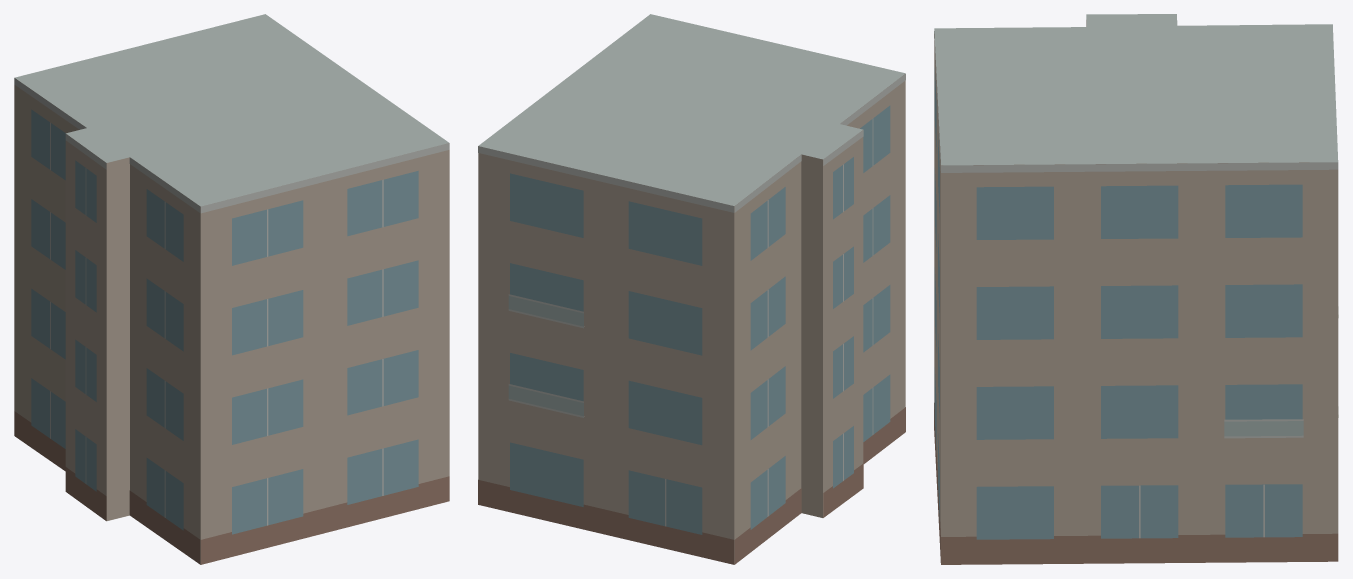
Rendered from survey-upis-32698407.glb.
3 renders of one model, left to right at view 1: azimuth 30°, elevation 25°; view 2: azimuth 150°, elevation 25°; view 3: azimuth 270°, elevation 25°, orthographic. The views are drawn at different scales.
Parts seen in each view (by area): view 1: survey-upis-32698407.tmp; view 2: survey-upis-32698407.tmp; view 3: survey-upis-32698407.tmp.
Part boxes in pixels (<box>): survey-upis-32698407.tmp: <box>14,14,449,564</box>; survey-upis-32698407.tmp: <box>478,14,905,564</box>; survey-upis-32698407.tmp: <box>934,14,1338,564</box>.
Bounding box in the file's own units: 10.41 × 12.8 × 11.76.
